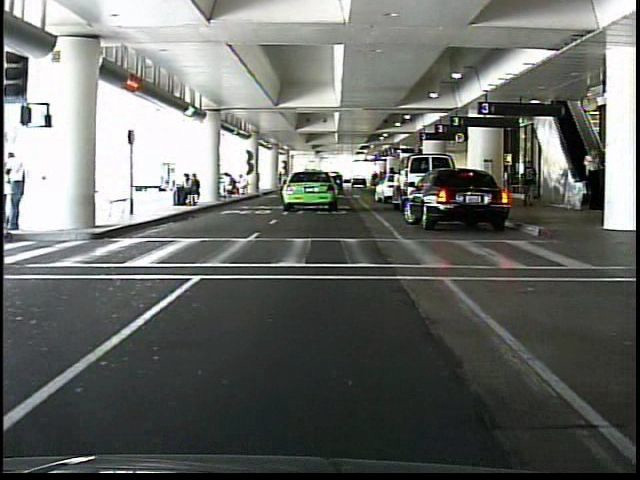person: (3, 151, 34, 233), (578, 144, 602, 207), (518, 155, 541, 214)
